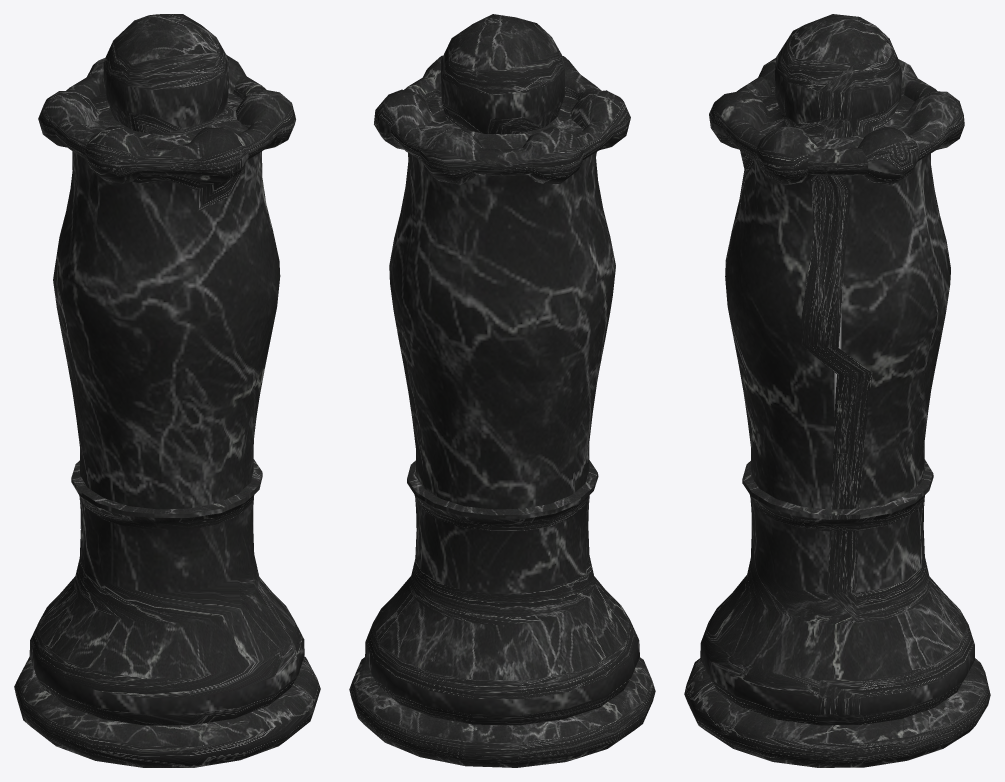
File: queenblack0.glb
The picture shows the model from 3 angles, left to right: view 1: azimuth 30°, elevation 25°; view 2: azimuth 150°, elevation 25°; view 3: azimuth 270°, elevation 25°; orthographic projection.
Bounding box in the file's own units: 0.786 × 1.98 × 0.7944.
1 material, 1 textured.
